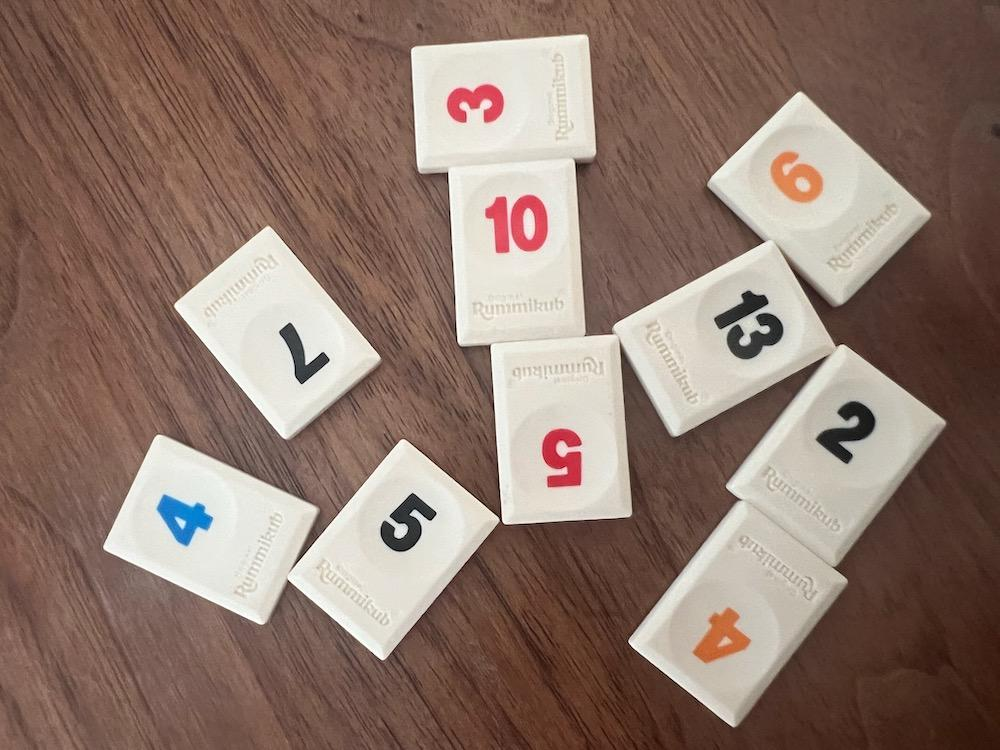black_13: (613, 242, 834, 436)
black_2: (727, 346, 945, 566)
black_5: (289, 439, 498, 660)
black_7: (174, 227, 381, 439)
blue_4: (105, 436, 318, 623)
orange_4: (629, 502, 848, 727)
orange_6: (709, 92, 930, 305)
red_10: (449, 158, 586, 346)
red_3: (412, 35, 596, 174)
red_5: (492, 336, 633, 525)
